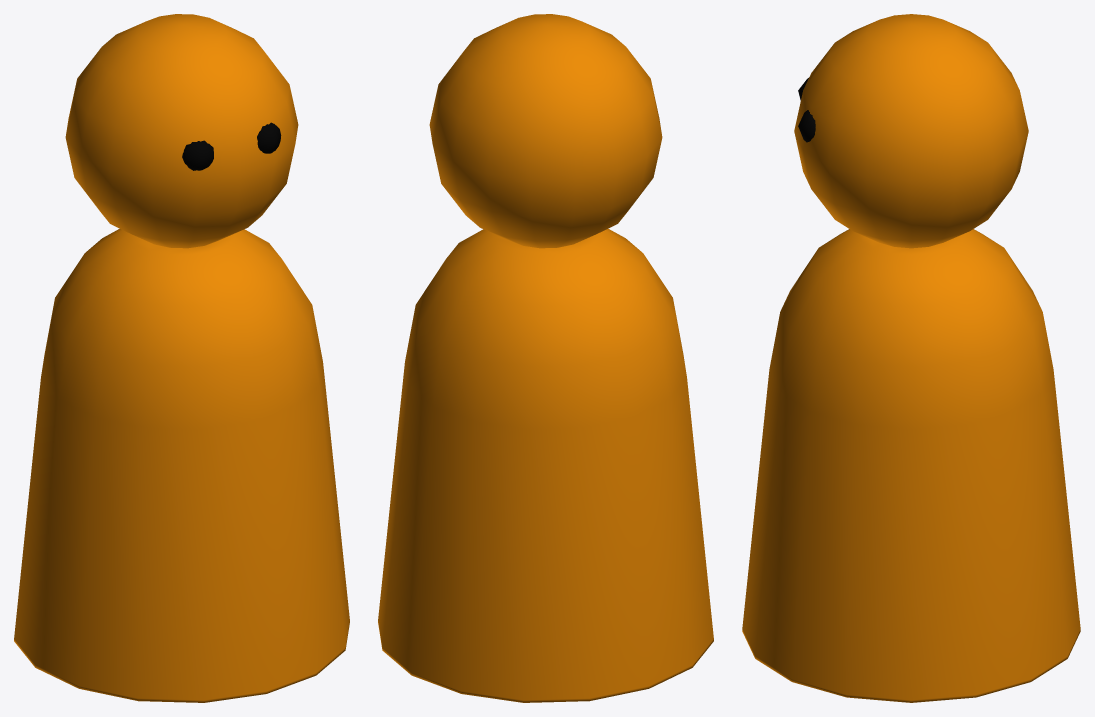
File: BuyerCharacter.glb
3 renders of one model, left to right at view 1: azimuth 30°, elevation 25°; view 2: azimuth 150°, elevation 25°; view 3: azimuth 270°, elevation 25°, orthographic.
Visible parts, largest first — view 1: Body.001; view 2: Body.001; view 3: Body.001.
Boxes of the visible parts, box(x1,y1,x2,y2) form: Body.001: box(14, 14, 349, 702); Body.001: box(378, 14, 713, 702); Body.001: box(742, 14, 1080, 702).
Bounding box in the file's own units: 2 × 3.96 × 2.
